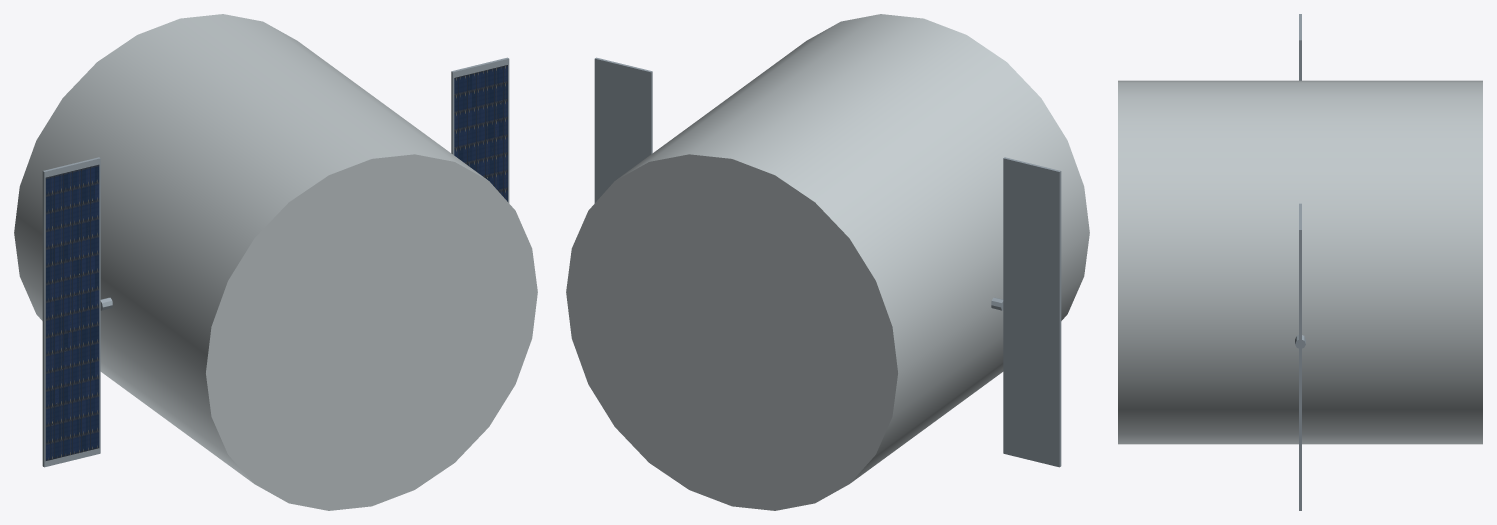
Rendered from ref-hisat-64871.glb.
The picture shows the model from 3 angles, left to right: view 1: azimuth 30°, elevation 25°; view 2: azimuth 150°, elevation 25°; view 3: azimuth 270°, elevation 25°; orthographic projection. The views are drawn at different scales.
Visible parts, largest first — view 1: Spacecraft body, Photovoltaic laminates (×2), Array frame (×2); view 2: Spacecraft body, Array frame (×2); view 3: Spacecraft body, Array frame.
Part boxes in pixels (<box>): Spacecraft body: <box>14,14,537,510</box>; Photovoltaic laminates (×2): <box>45,65,507,460</box>; Array frame (×2): <box>42,57,509,467</box>; Spacecraft body: <box>566,14,1089,510</box>; Array frame (×2): <box>594,57,1061,467</box>; Spacecraft body: <box>1118,80,1482,444</box>; Array frame: <box>1299,203,1301,510</box>.
Bounding box in the file's own units: 0.7 × 0.5 × 0.5.
Materials: 3 (1 with a texture image).
